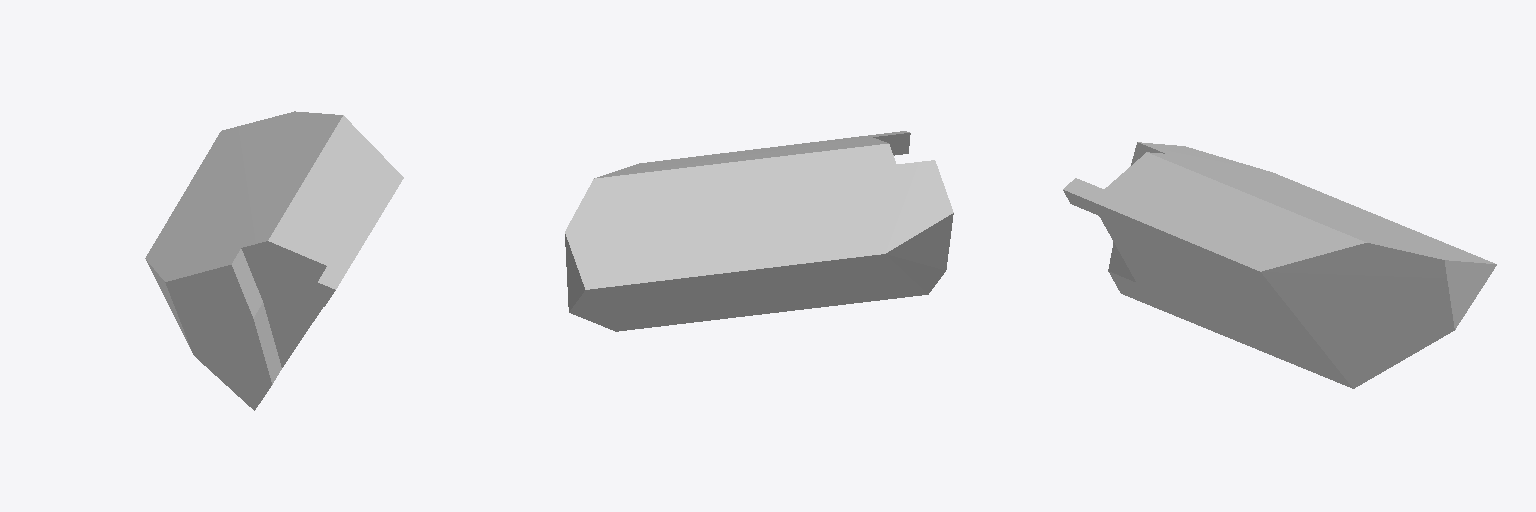
Rendered from li-fang-ti-.001_cell.030.obj.
The picture shows the model from 3 angles: view 1: azimuth 30°, elevation 25°; view 2: azimuth 150°, elevation 25°; view 3: azimuth 270°, elevation 25°; orthographic projection.
Parts seen in each view (by area): view 1: 立方体.001_cell.030; view 2: 立方体.001_cell.030; view 3: 立方体.001_cell.030.
Part boxes in pixels (bbox=[...]): 立方体.001_cell.030: bbox=[145, 111, 403, 410]; 立方体.001_cell.030: bbox=[565, 131, 953, 331]; 立方体.001_cell.030: bbox=[1063, 142, 1496, 388].
Size of the model in its own units: 0.2489 by 0.1328 by 0.3389.